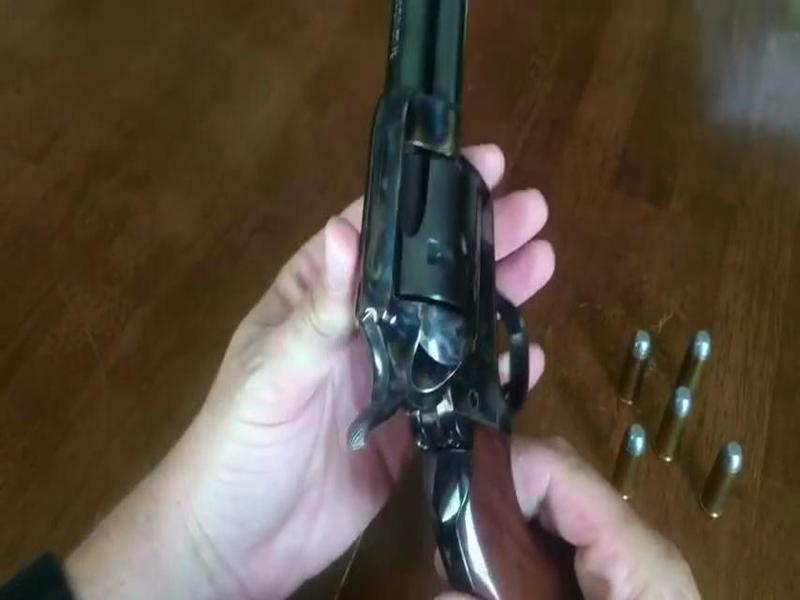Revolver: (329, 7, 559, 591)
